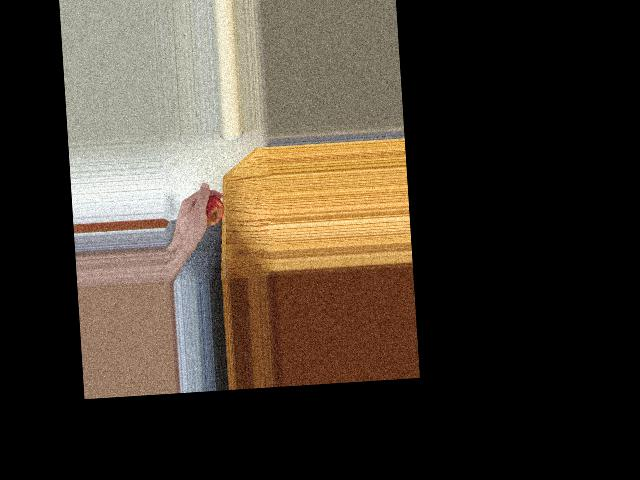apple: (192, 192, 225, 233)
